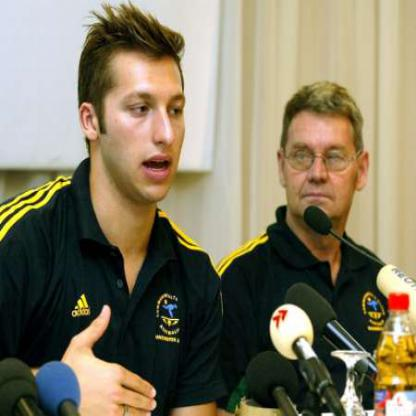face: (97, 28, 193, 205), (282, 88, 361, 224)
